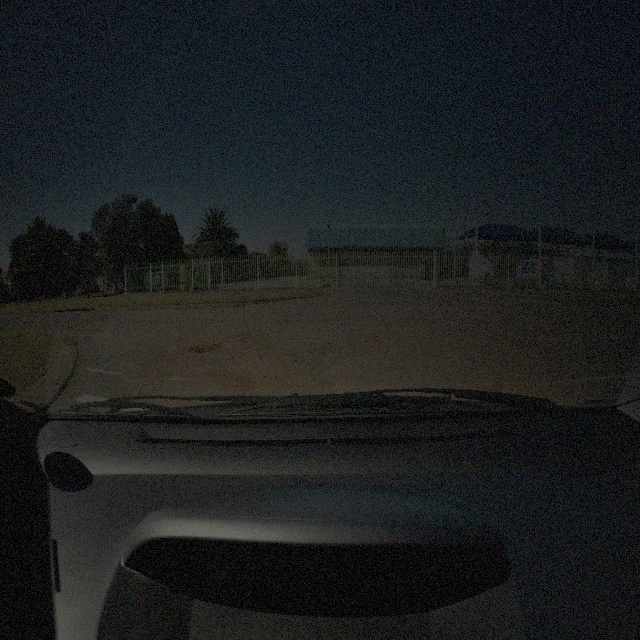pothole: (186, 341, 223, 352)
